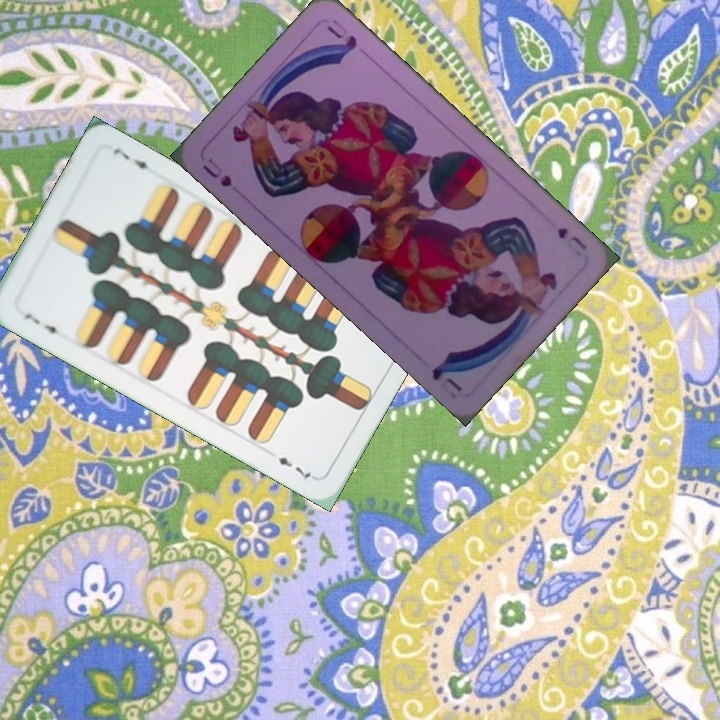E7: (20, 309, 65, 341)
SU: (199, 153, 235, 190), (553, 223, 590, 253)
